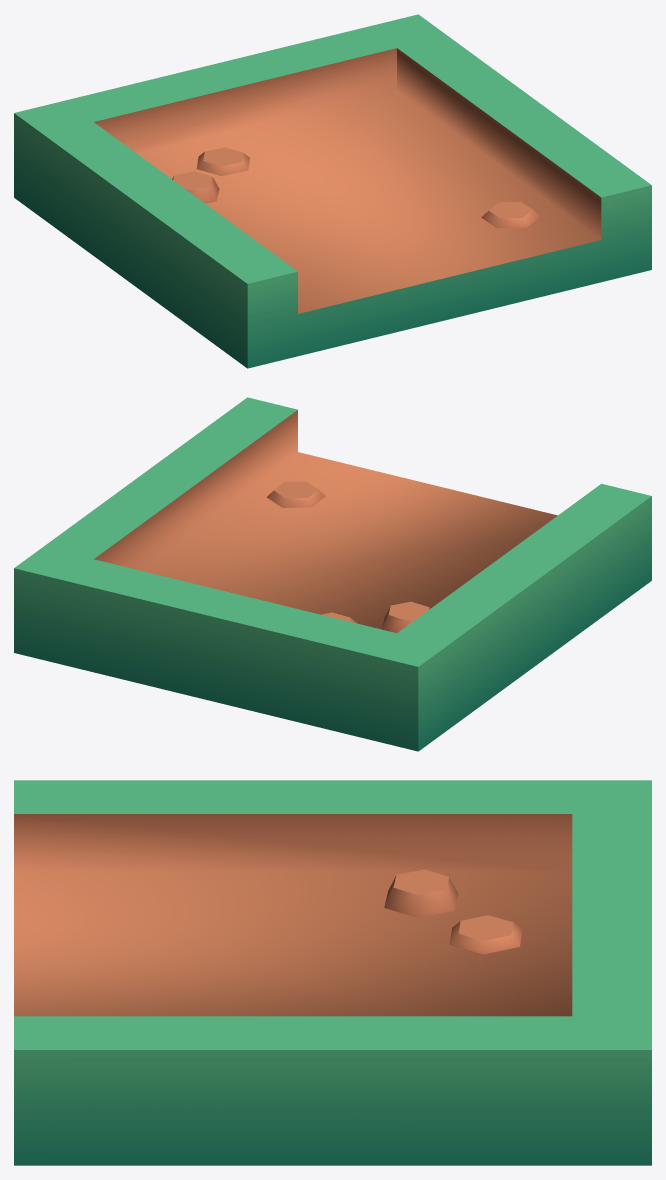
Rendered from tile-end.glb.
The picture shows the model from 3 angles, top to bottom: view 1: azimuth 30°, elevation 25°; view 2: azimuth 150°, elevation 25°; view 3: azimuth 270°, elevation 25°; orthographic projection. The views are drawn at different scales.
Visible parts, largest first — view 1: tile-end; view 2: tile-end; view 3: tile-end.
Boxes of the visible parts, bbox=[...] form: tile-end: bbox=[14, 14, 651, 368]; tile-end: bbox=[14, 397, 651, 751]; tile-end: bbox=[14, 780, 651, 1165].
Bounding box in the file's own units: 1 × 0.2 × 1.
Materials: 1 (1 with a texture image).
